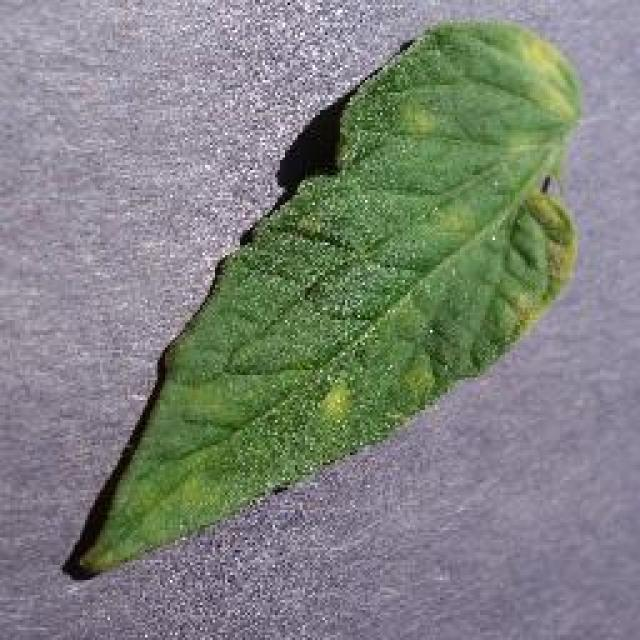Tomato___Leaf_Mold: (68, 22, 578, 575)
